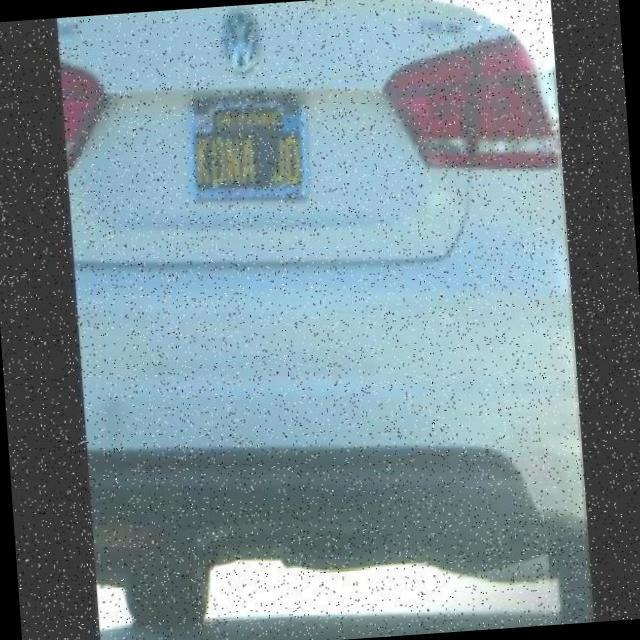License Plate: (189, 75, 311, 205)
